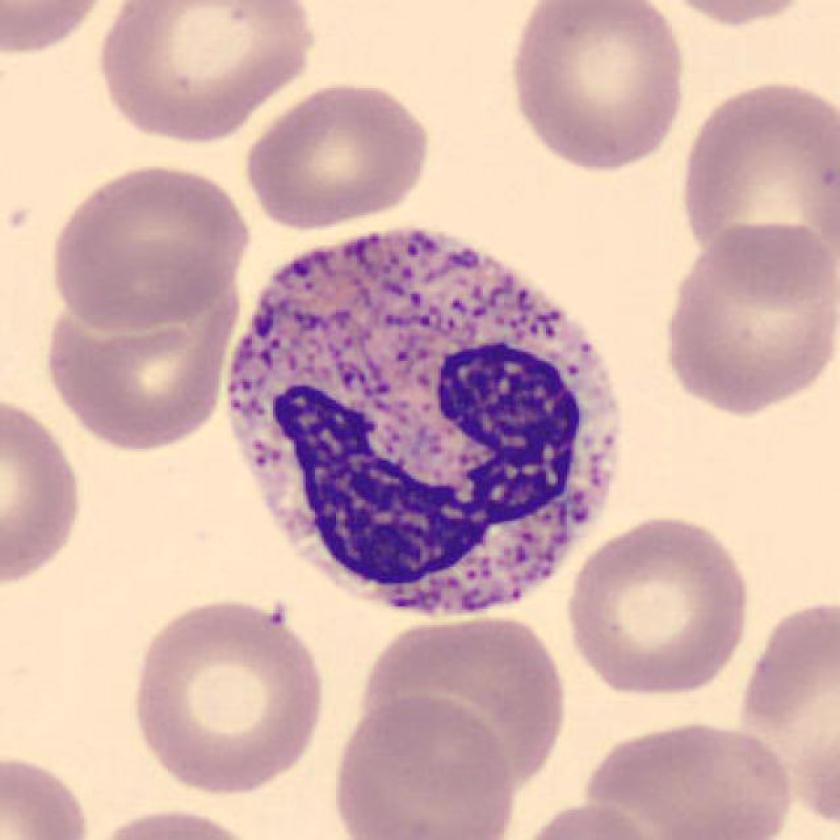neutrophil: (230, 232, 625, 614)
